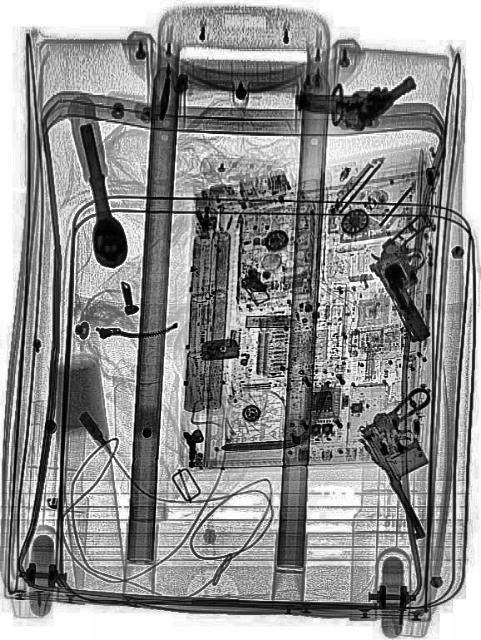Gun: (356, 380, 480, 544), (362, 202, 478, 352), (292, 60, 418, 134)
